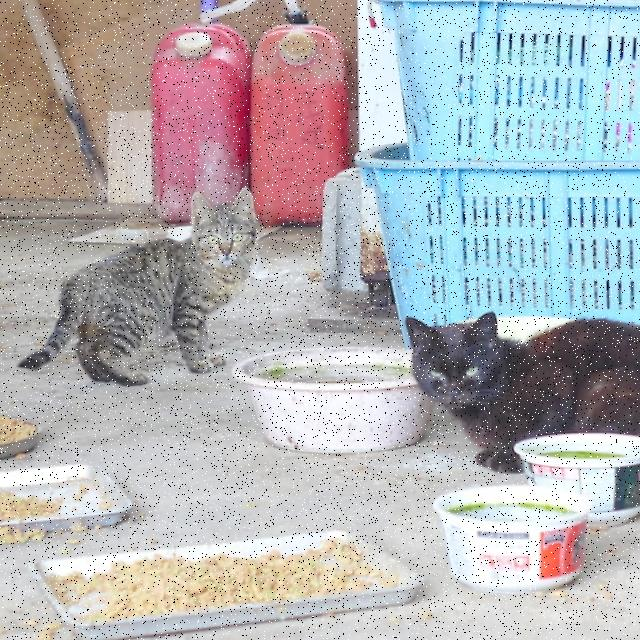cat: (19, 188, 258, 384), (405, 312, 640, 472)
